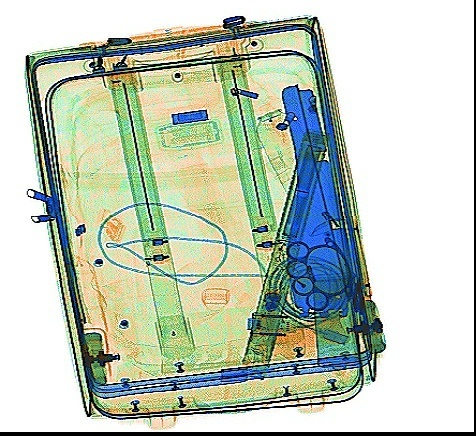zippooil: (311, 268, 363, 372)
